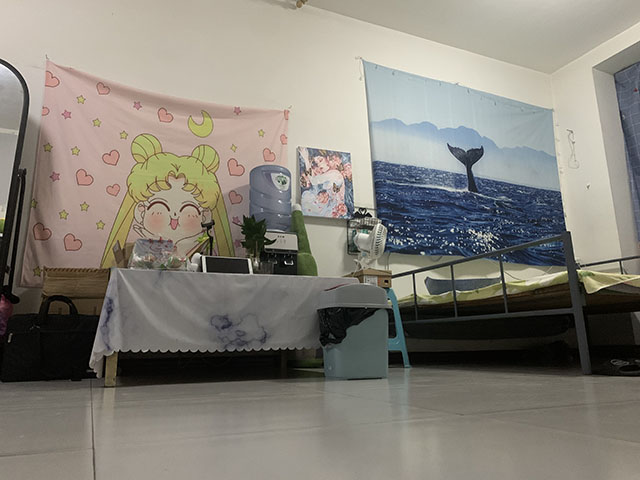bed: (391, 230, 640, 376)
slippers: (590, 356, 640, 377)
table: (88, 266, 361, 388)
trashcan: (314, 281, 393, 381)
